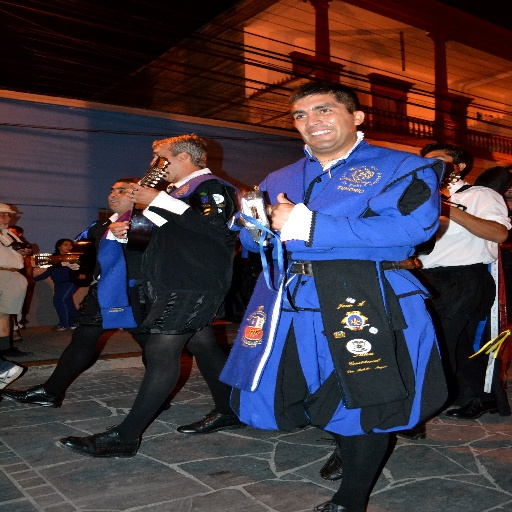hand: (268, 193, 312, 236), (122, 181, 157, 206), (236, 204, 273, 226), (105, 220, 130, 240), (16, 248, 33, 257), (67, 263, 82, 271)
